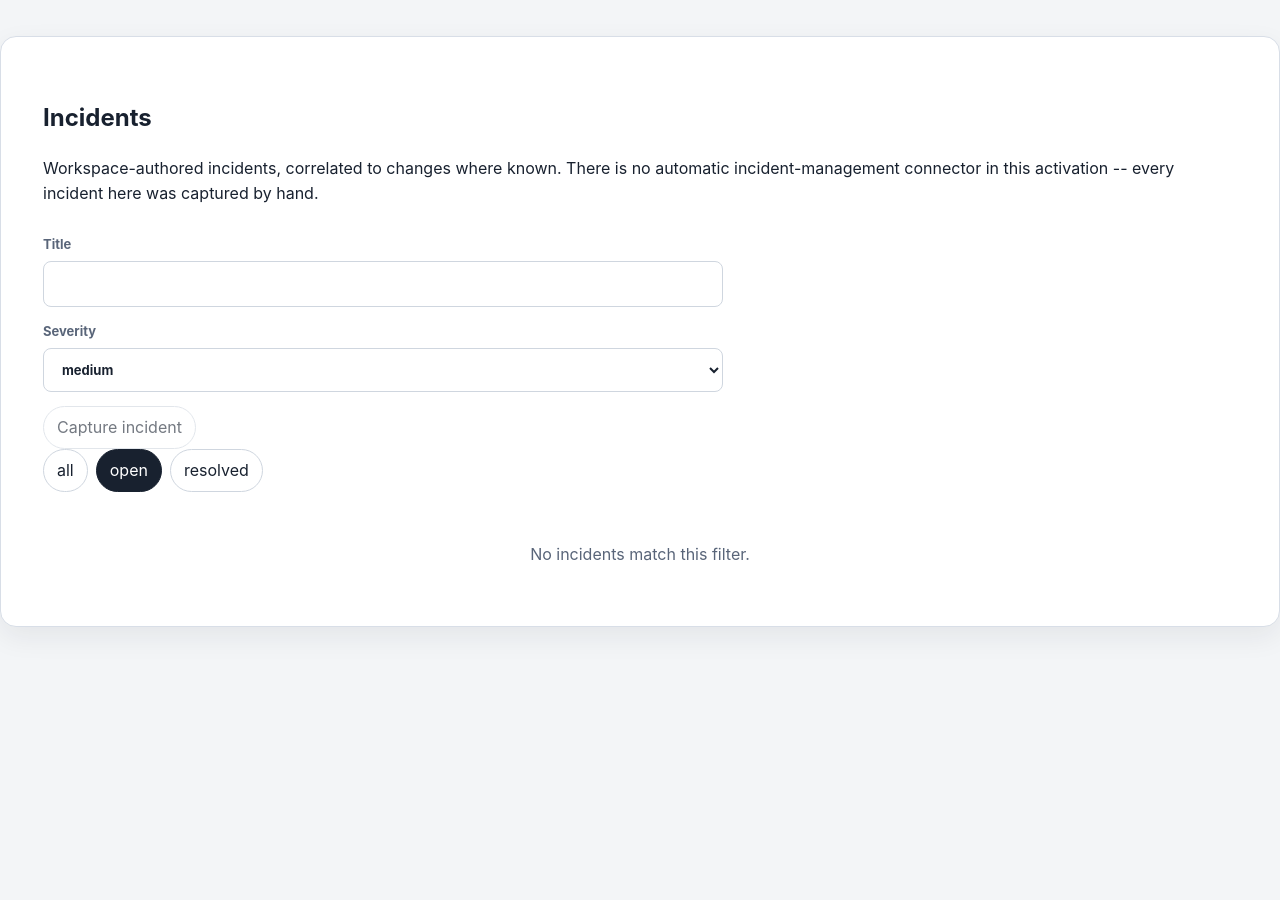
Test: IncidentsPanel › maps a stale CSRF token to a reload instruction, never the generic "not permitted" 403 fallback
Expected: the text "No incidents match this filter." is shown, [530,544,750,564]
Type "Checkout outage" into the field named "Incident title" at coordinates (383, 284), box [43,261,723,307]
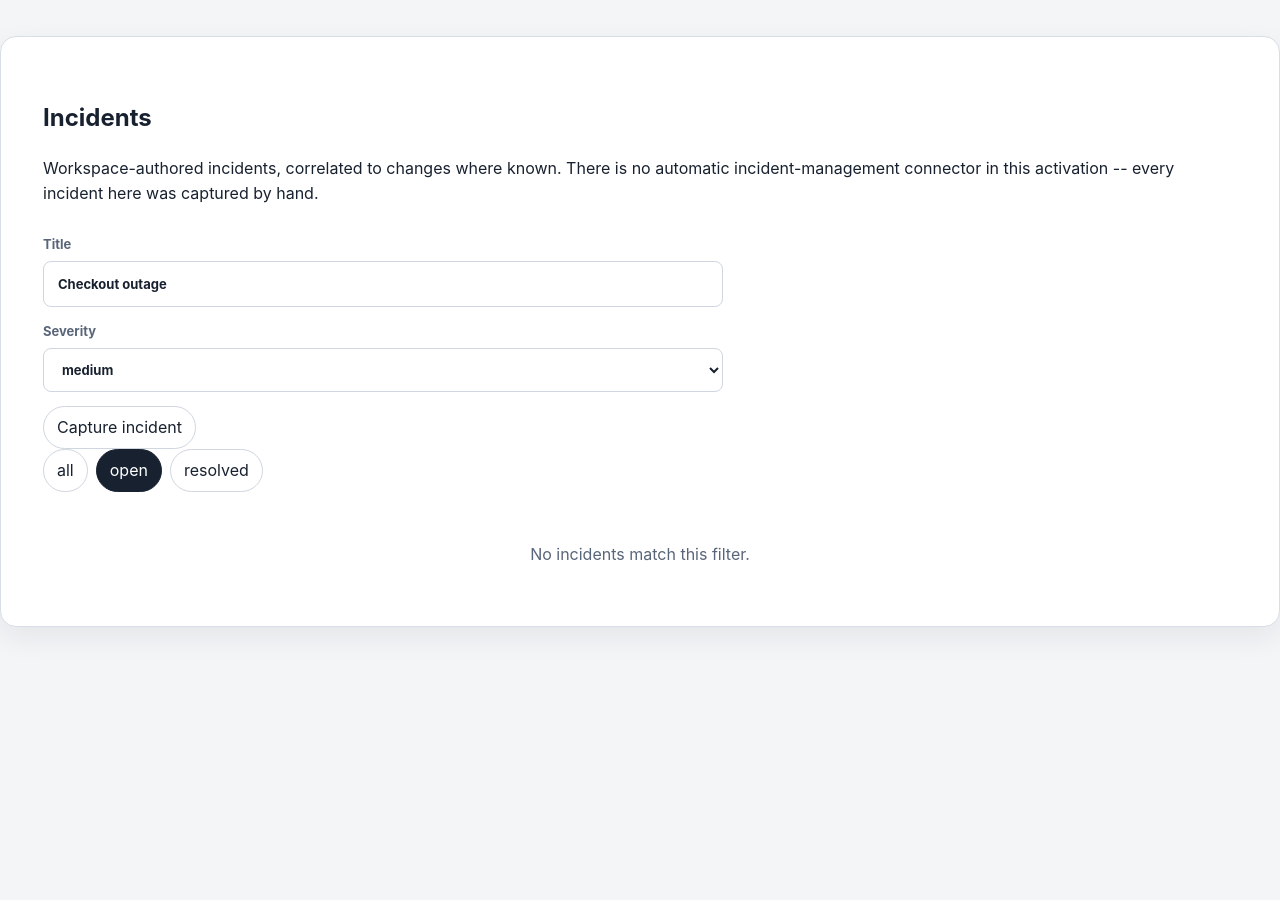
Click the button "Capture incident" at coordinates (119, 427), box [43,406,196,449]
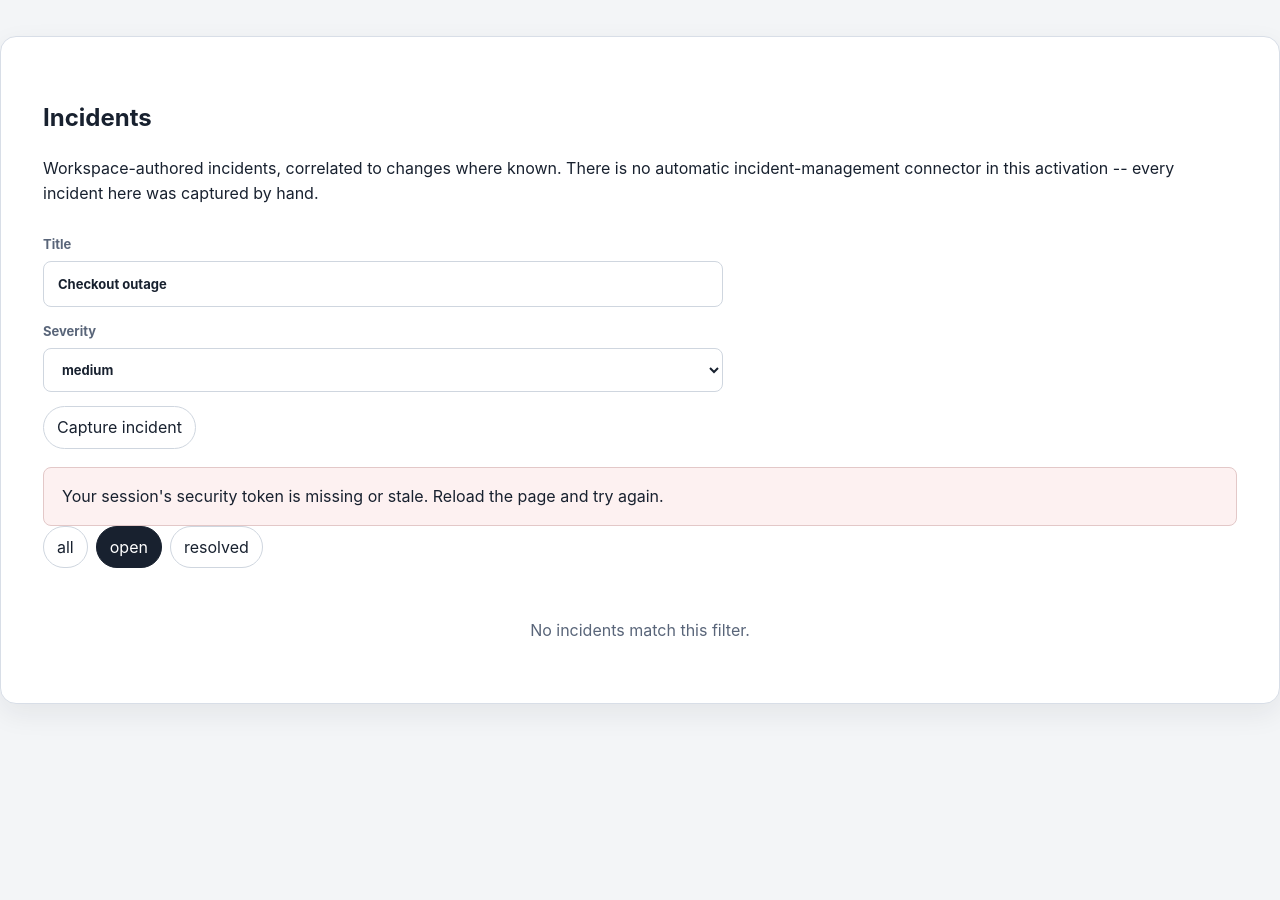
Expected: the text "security token is missing or stale" is shown, [62,486,664,506]
